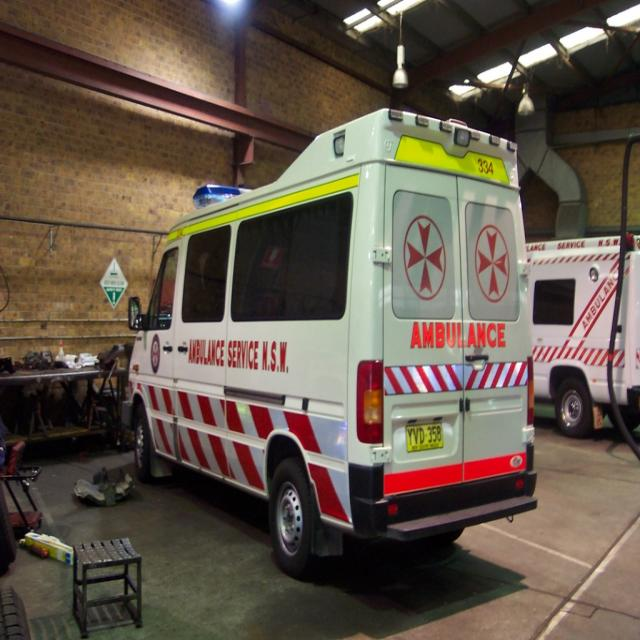Ambulance: (129, 105, 540, 576), (520, 229, 640, 436)
